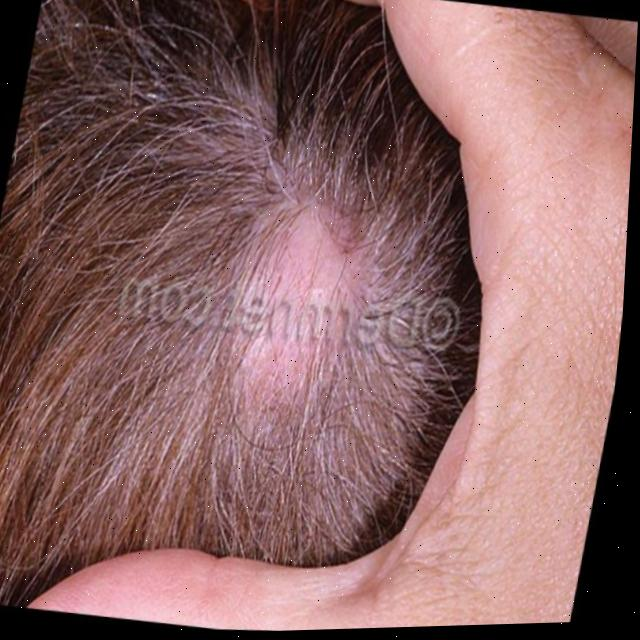Eczema: (240, 214, 399, 382)
